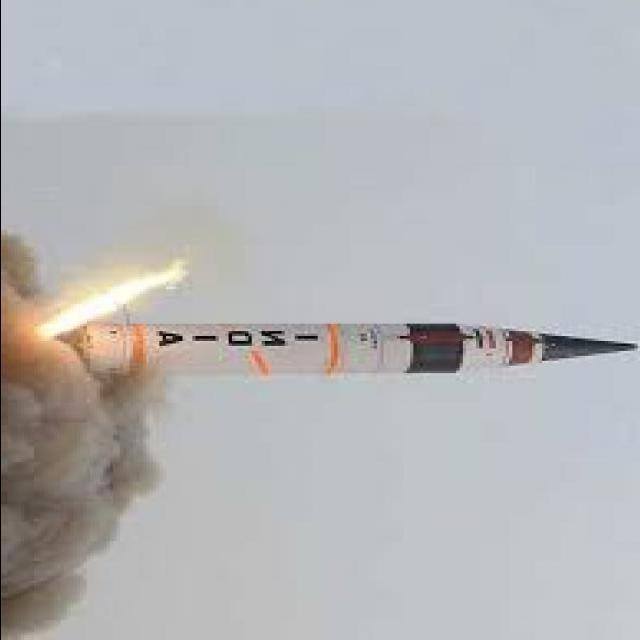Missile: (36, 312, 640, 379)
